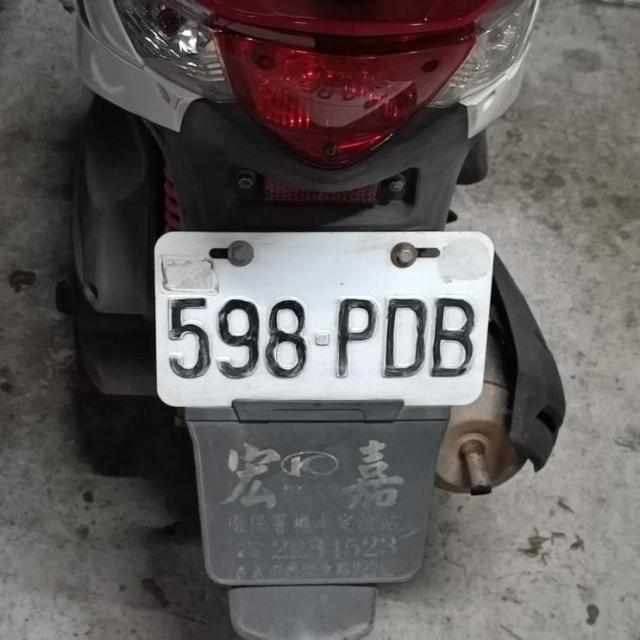W: (145, 221, 501, 413)
